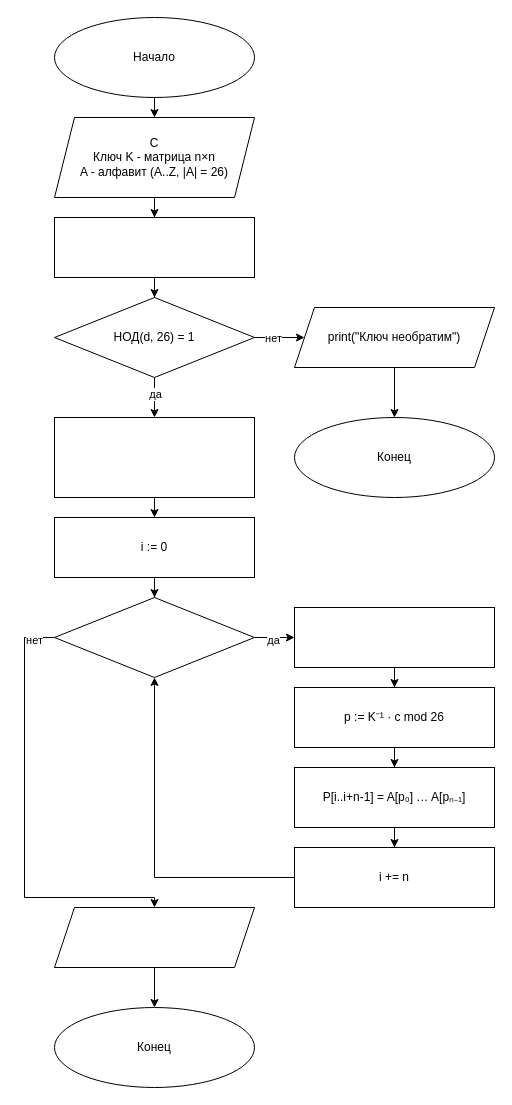
Image size: 512x1105. Some labels were removed from this diagram. Here are the shapes that lost their labels. From the top down, the centre of each, then its label:
(154,247): d := det(K) mod 26
(154,457): 1) d⁻¹ := обратное к d по mod 26 2) K⁻¹ := d⁻¹ · adj(K) mod 26
(154,637): i < |C|
(394,637): c := (A.index(C[i]), …, A.index(C[i+n-1]))
(154,937): print(P)
